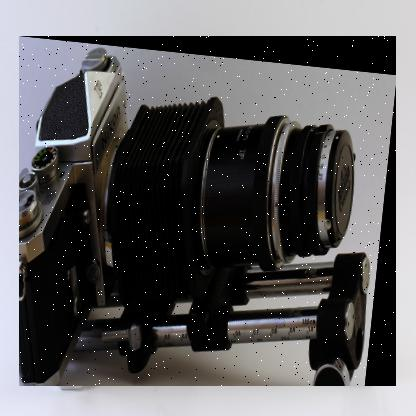Camera: (20, 37, 398, 388)
